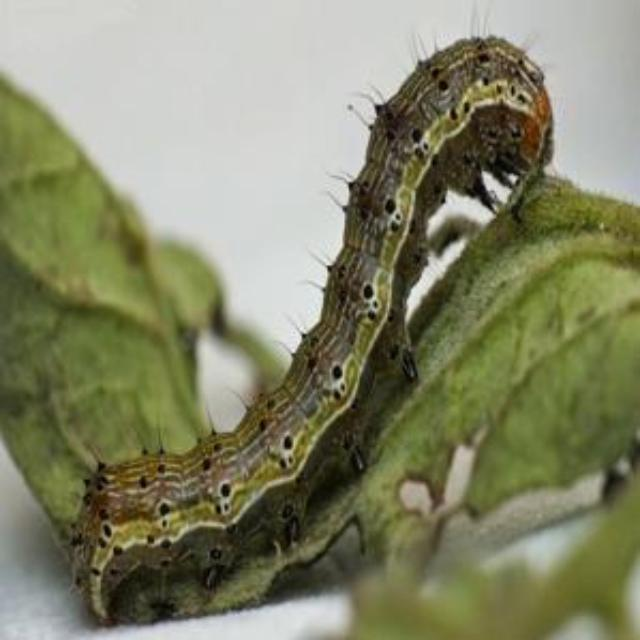Cotton bollworm: (46, 15, 578, 631)
